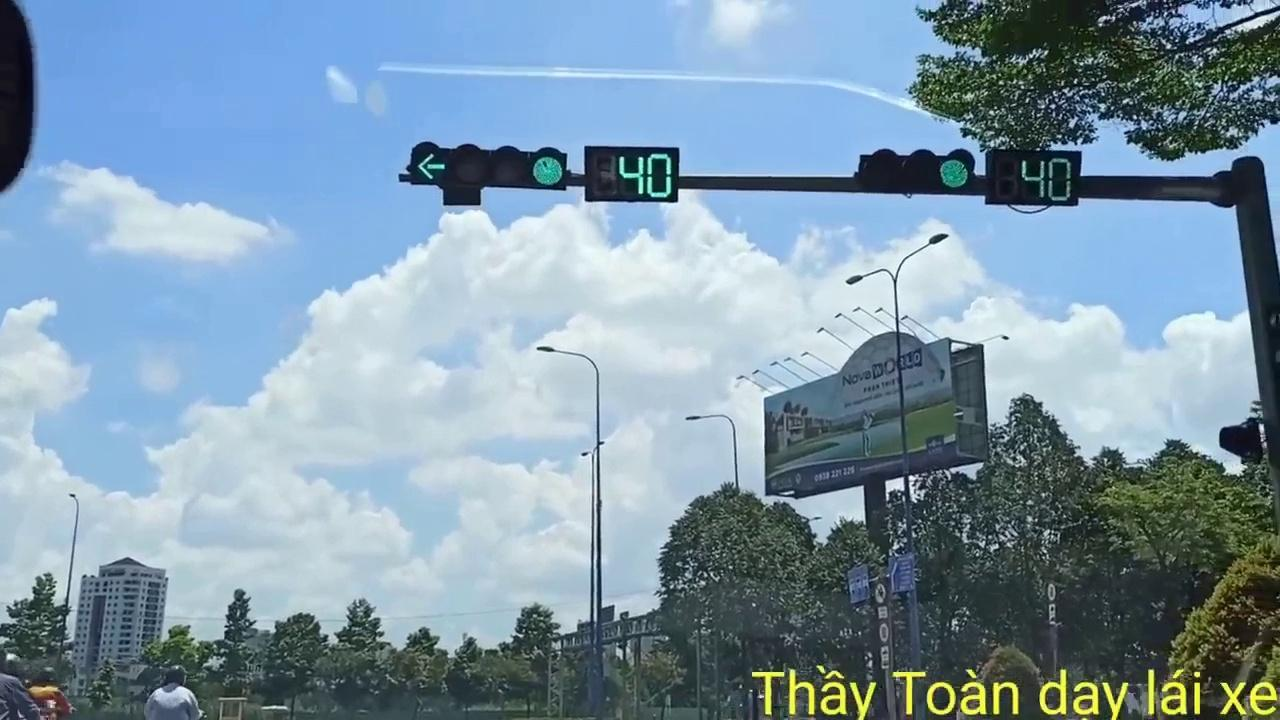Biển phụ: (880, 644, 890, 671), (1048, 602, 1056, 625)
Chỉ hướng đường: (886, 555, 914, 591)
Cấm xe máy: (875, 582, 886, 605)
Làn đường cho từng xe: (846, 564, 870, 604)
